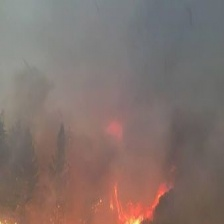fire: (111, 187, 167, 224)
smoke: (4, 4, 221, 207)
